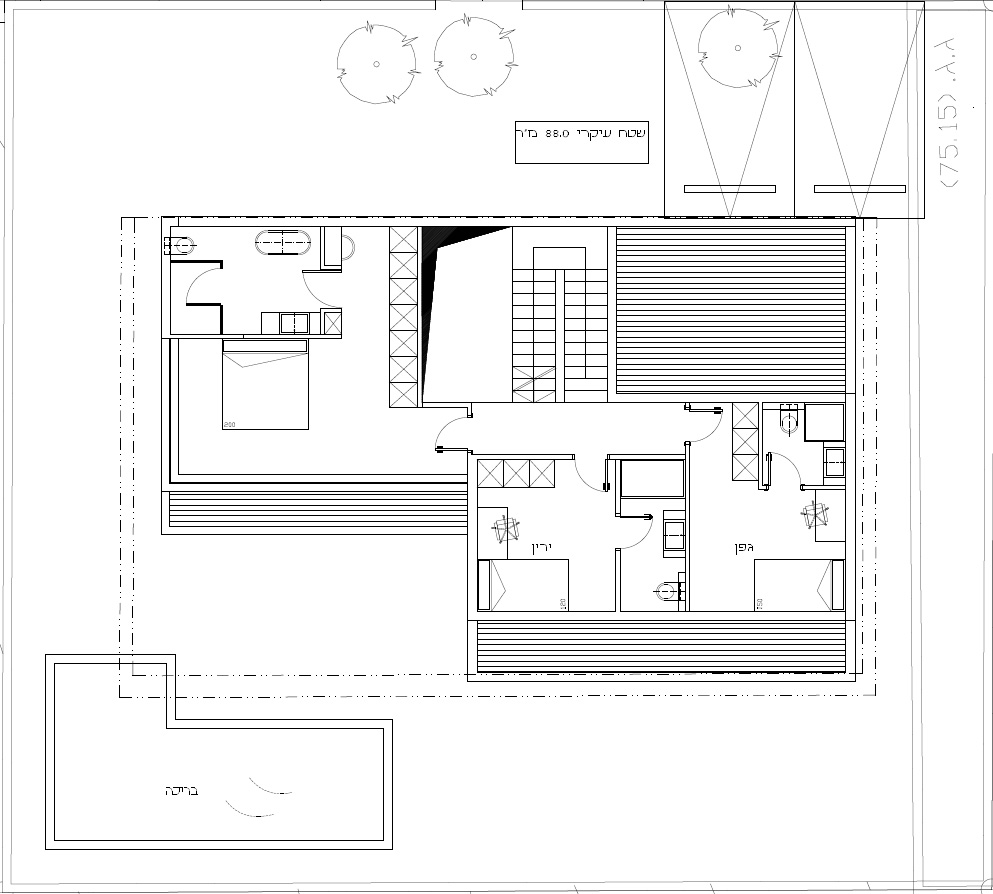door: (424, 418, 464, 459), (180, 268, 217, 312), (569, 463, 613, 496), (296, 268, 335, 305), (625, 508, 658, 548), (765, 449, 805, 481), (696, 402, 725, 443)
